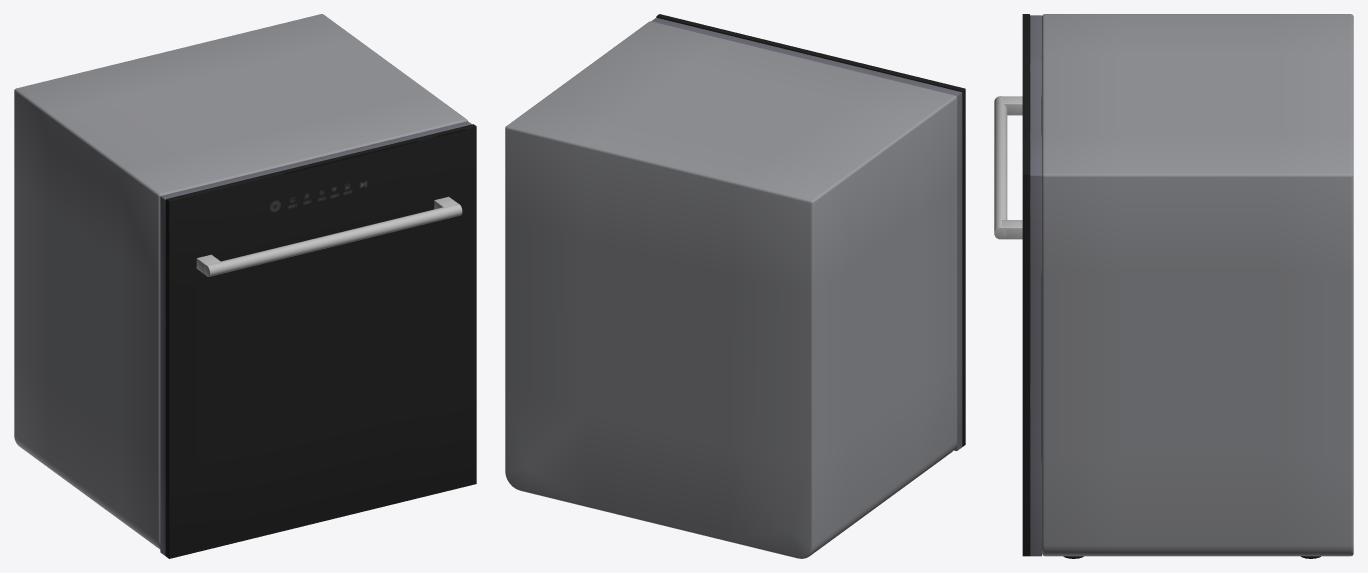
Rendered from visual_LowPoly_10_DishWasher.dae.
3 renders of one model, left to right at view 1: azimuth 30°, elevation 25°; view 2: azimuth 150°, elevation 25°; view 3: azimuth 270°, elevation 25°, orthographic. The views are drawn at different scales.
Parts seen in each view (by area): view 1: SM_dishwasher; view 2: SM_dishwasher; view 3: SM_dishwasher.
Boxes of the visible parts, left/top/right/bottom form: SM_dishwasher: left=14, top=14, right=476, bottom=558; SM_dishwasher: left=505, top=14, right=965, bottom=558; SM_dishwasher: left=994, top=14, right=1353, bottom=558.
Size of the model in its own units: 59.56 by 55.99 by 68.
1 material, 1 textured.
